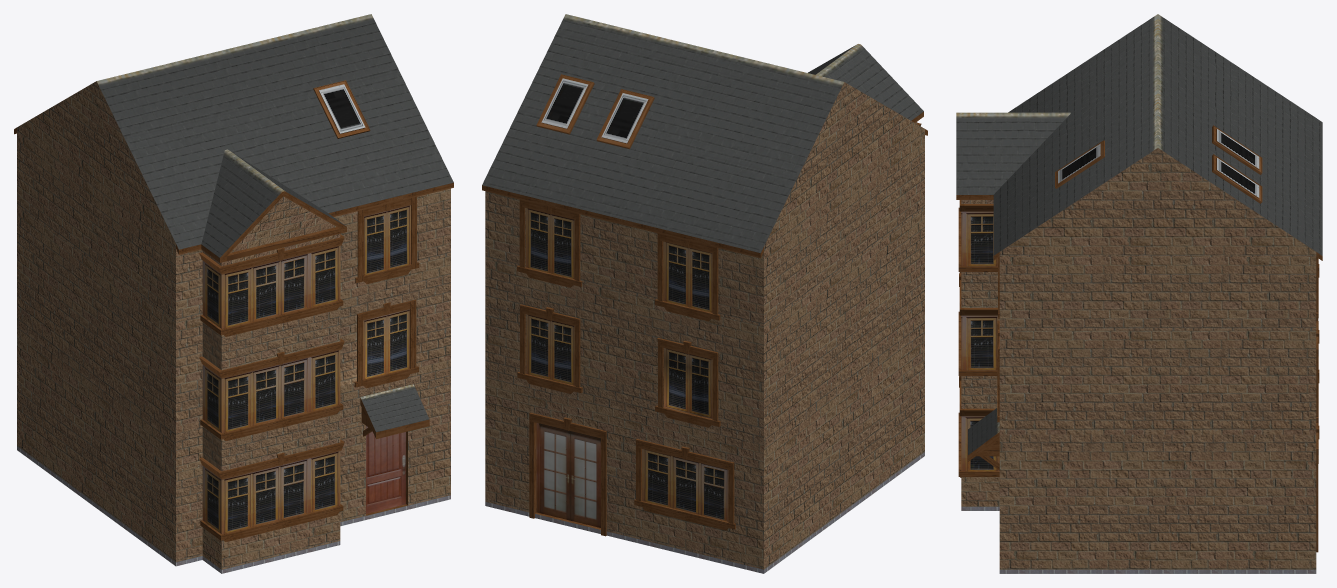
The model's file is modernterrace3story4bm.FBX.
3 renders of one model, left to right at view 1: azimuth 30°, elevation 25°; view 2: azimuth 150°, elevation 25°; view 3: azimuth 270°, elevation 25°, orthographic.
Parts seen in each view (by area): view 1: Box001; view 2: Box001; view 3: Box001.
Boxes of the visible parts, <box> form: Box001: <box>14,14,453,573</box>; Box001: <box>482,14,927,573</box>; Box001: <box>956,14,1322,573</box>.
Bounding box in the file's own units: 800 × 1188 × 925.
